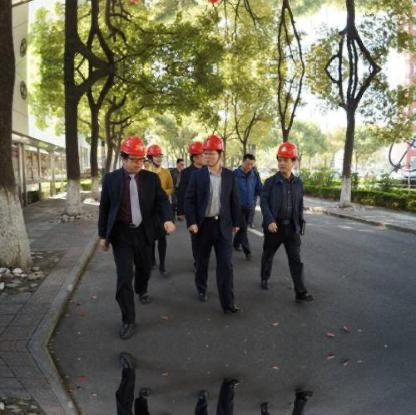No Safety Helmet: (239, 150, 261, 178), (172, 157, 186, 176)
Safety Helmet: (110, 130, 151, 171), (198, 131, 225, 171), (274, 139, 301, 176), (182, 137, 207, 169), (143, 142, 166, 171)
